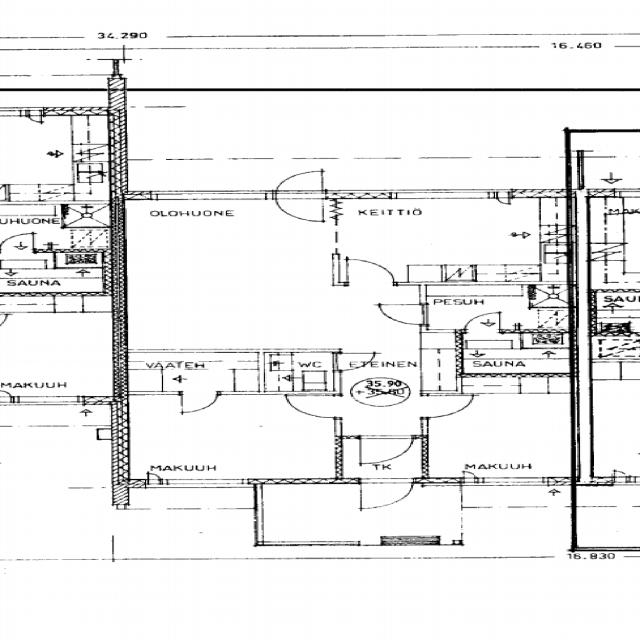door: (271, 168, 327, 225), (354, 476, 417, 512), (349, 435, 419, 467), (339, 256, 399, 287), (419, 391, 477, 419), (281, 392, 339, 419), (372, 300, 429, 326), (273, 195, 326, 221), (175, 392, 219, 416), (460, 311, 503, 334), (332, 351, 376, 372), (0, 231, 41, 252), (23, 107, 46, 126), (490, 193, 512, 208), (0, 312, 14, 330)
window: (143, 189, 270, 203), (7, 395, 82, 406)
zone: (123, 392, 336, 486), (334, 197, 566, 282), (420, 379, 576, 485), (0, 301, 118, 404), (0, 116, 110, 200), (418, 283, 530, 329), (457, 331, 571, 376), (0, 254, 111, 296), (572, 486, 640, 552), (596, 204, 640, 286), (260, 352, 334, 393), (0, 203, 63, 249), (58, 225, 110, 261), (62, 201, 111, 228)
